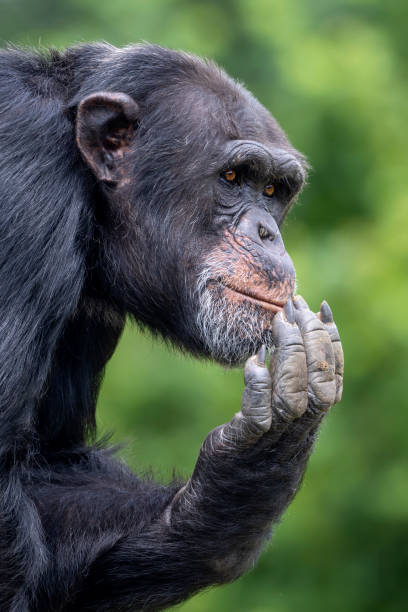chimpanzee: (48, 27, 311, 388)
